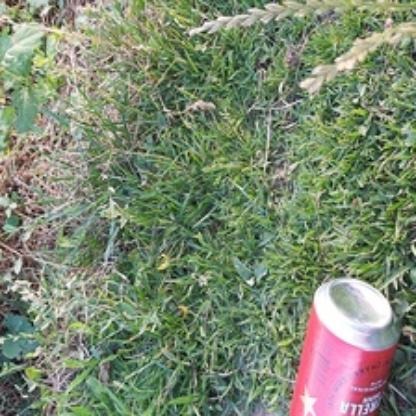Can: (290, 278, 402, 416)
